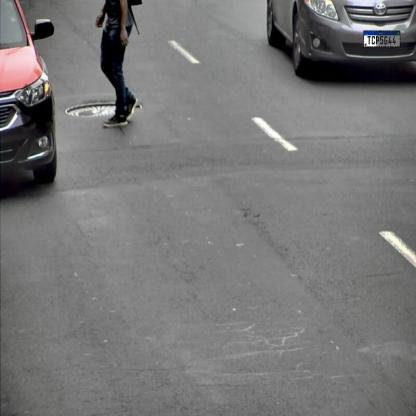PlacaM: (364, 31, 400, 47)
